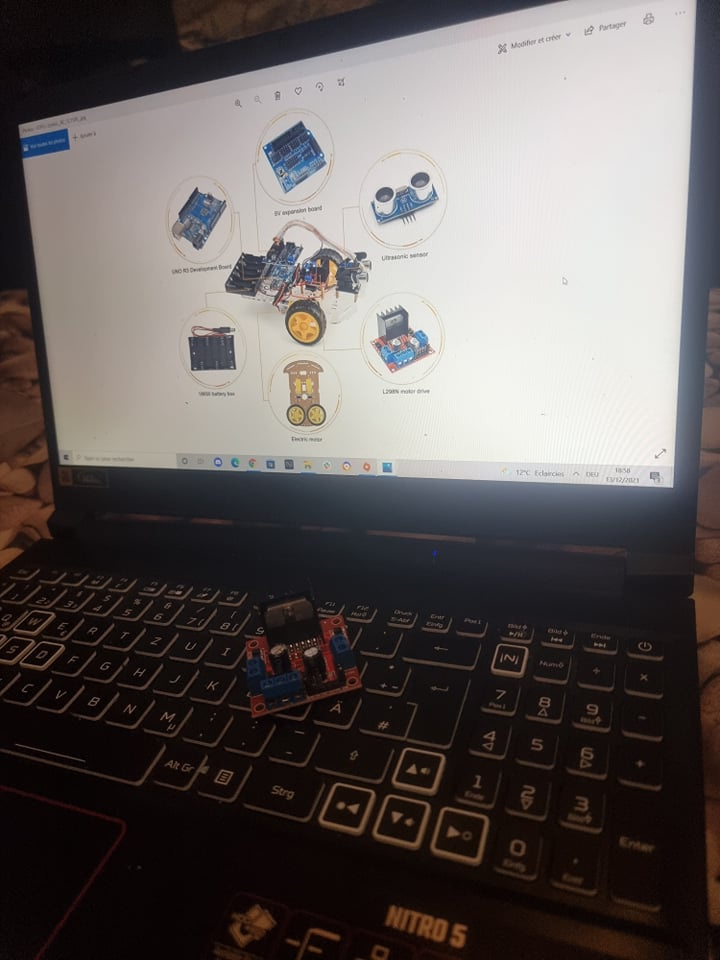5V EXPANSION: (258, 117, 329, 195)
BATTERY BOX: (189, 334, 238, 373)
MOTOR: (233, 596, 363, 722), (368, 303, 435, 372)
SENSOR: (371, 165, 439, 223), (356, 255, 378, 289)
UNO R3: (170, 182, 232, 256)
